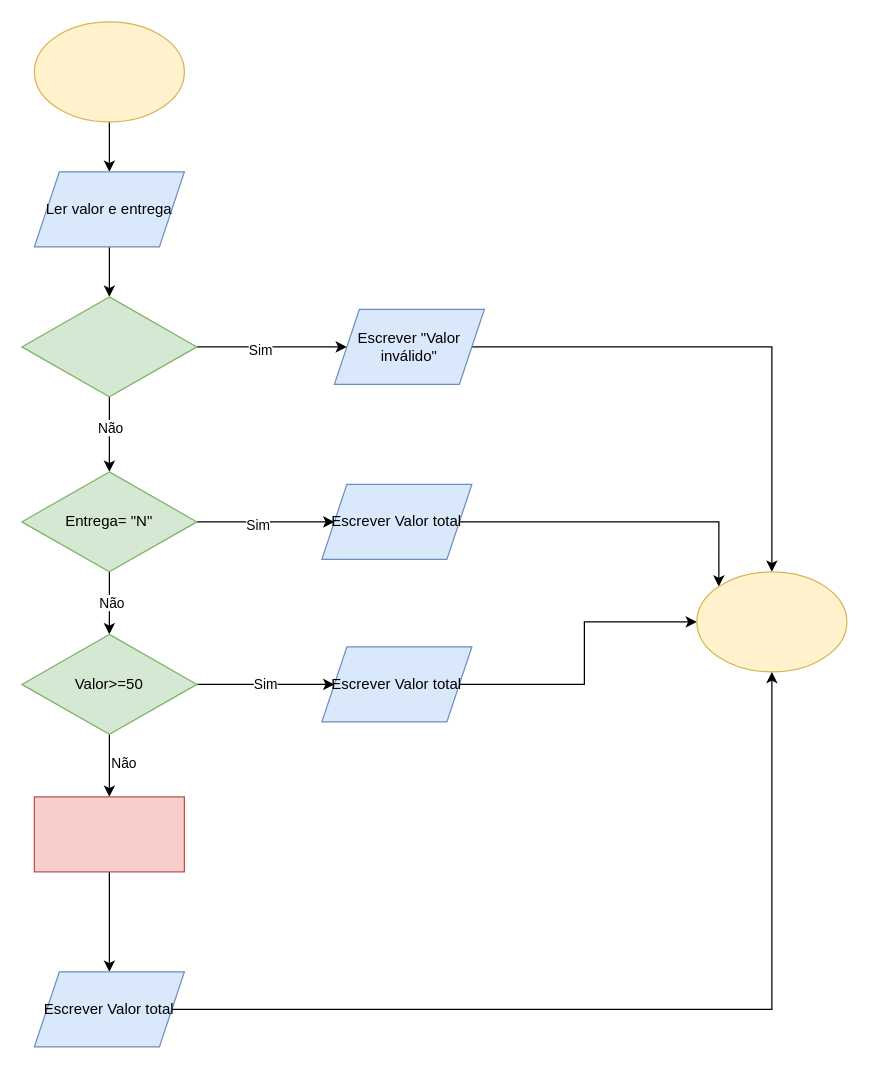
Some shapes in this 869 by 1069 pixel diagram are drawn without their labels. Each missing label, with the box of its shape:
FIm: (696, 571, 847, 672)
Início: (33, 21, 184, 122)
Valor total=valor+5: (33, 796, 184, 872)
Valor<=0: (21, 296, 197, 397)
